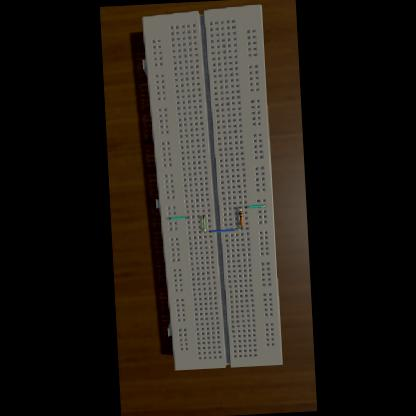breadboard: (140, 3, 282, 370)
resistor: (239, 210, 244, 224)
wire: (209, 227, 236, 231), (245, 204, 266, 207), (168, 215, 188, 218), (202, 214, 205, 230), (239, 206, 240, 210), (242, 224, 243, 228)
